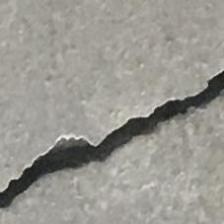Crack: (0, 73, 224, 218)
